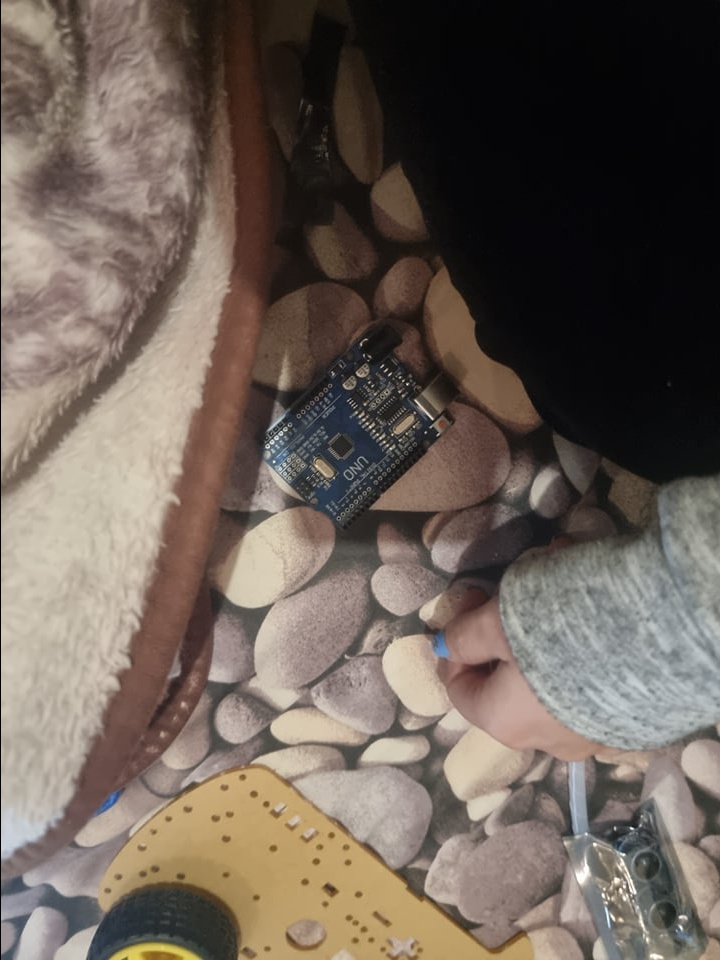UNO R3: (253, 325, 459, 529)
